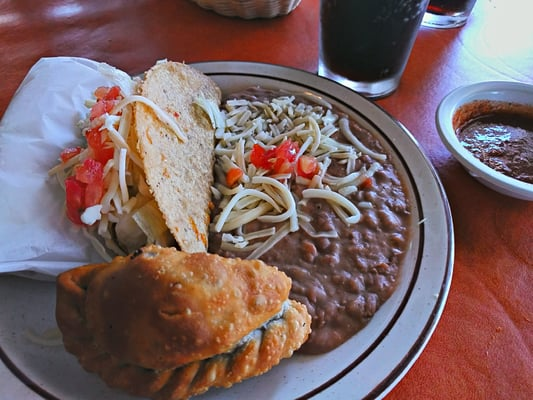pizza: (317, 0, 430, 99), (422, 0, 479, 30)
soup: (54, 246, 313, 400), (48, 58, 227, 259)
sushi: (435, 81, 533, 202)
